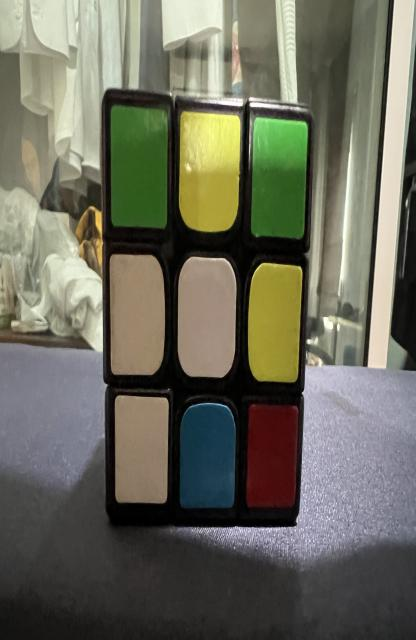Blue: (180, 403, 236, 508)
Green: (110, 105, 168, 228), (251, 117, 308, 238)
Red: (246, 403, 298, 508)
White: (178, 257, 236, 378), (110, 253, 165, 375), (115, 395, 169, 503)
Yellow: (179, 112, 240, 232), (248, 263, 302, 383)
